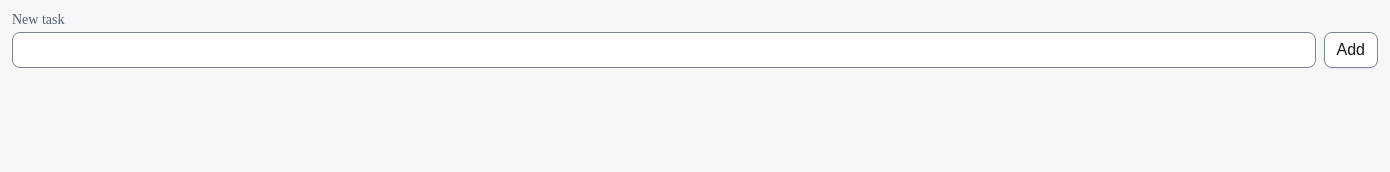
TaskForm (S1) › clears a visible error after a successful add
The width and height of the screenshot is (1390, 172).
Click the button "Add": (1351, 50) [1324,32,1378,68]
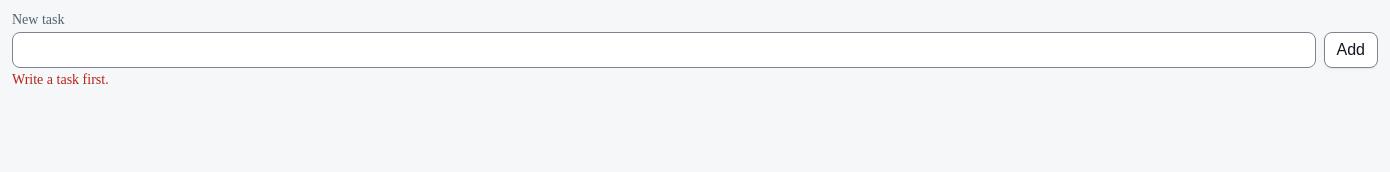
Now the message reads "Write a task first.", box [12,72,109,87]
In the field labelled "New task": (664, 50) [12,32,1316,68], type "Buy milk"
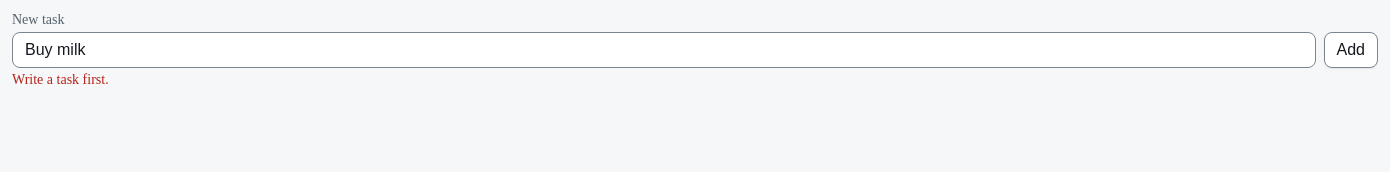
Click the button "Add": (1351, 50) [1324,32,1378,68]
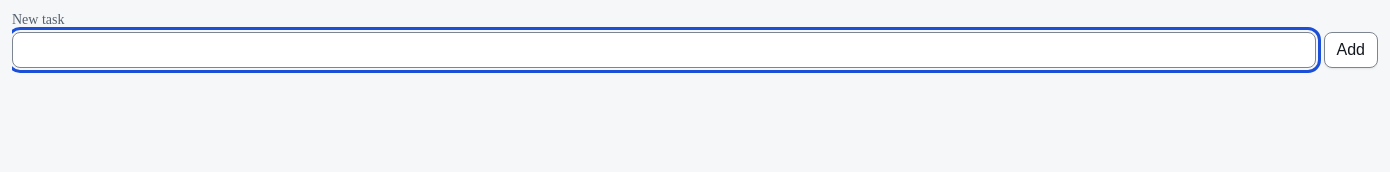
Now the message "Write a task first." is gone
